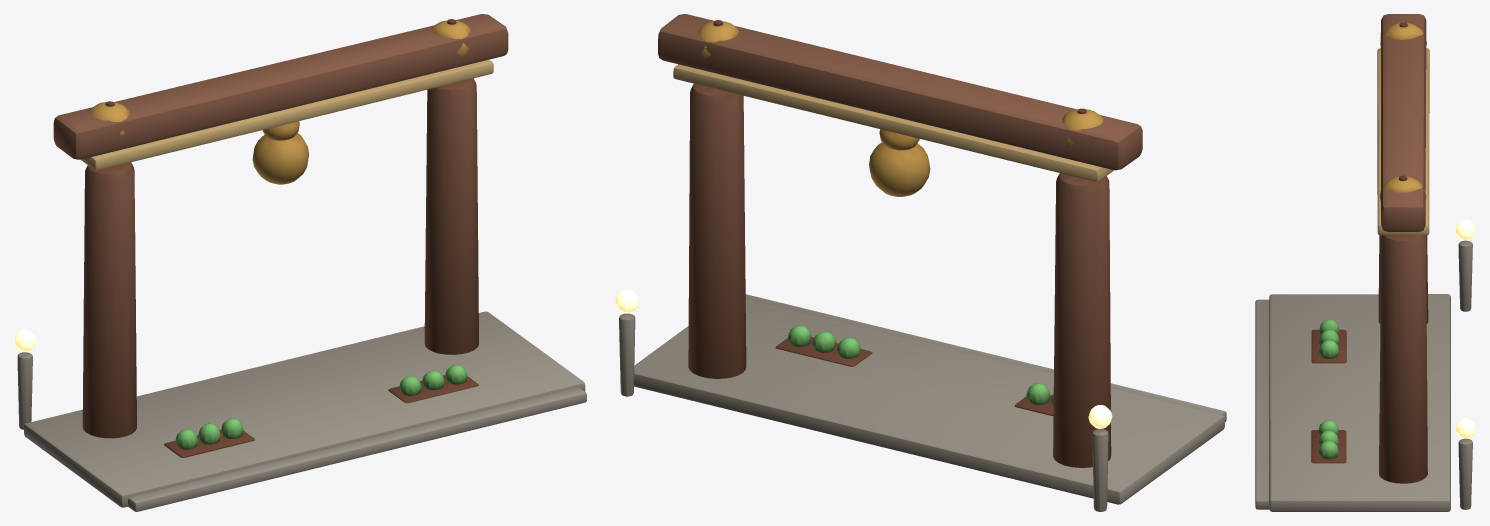
3 views of the same model, side by side, from view 1: azimuth 30°, elevation 25°; view 2: azimuth 150°, elevation 25°; view 3: azimuth 270°, elevation 25° (orthographic). The views are drawn at different scales.
Visible parts, largest first — view 1: gate_ee42d224; view 2: gate_ee42d224; view 3: gate_ee42d224.
Part boxes in pixels (x1,y1,x2,y2): gate_ee42d224: (14, 14, 586, 511); gate_ee42d224: (615, 14, 1226, 511); gate_ee42d224: (1255, 14, 1475, 511).
Size of the model in its own units: 5.68 by 3.95 by 2.55.
